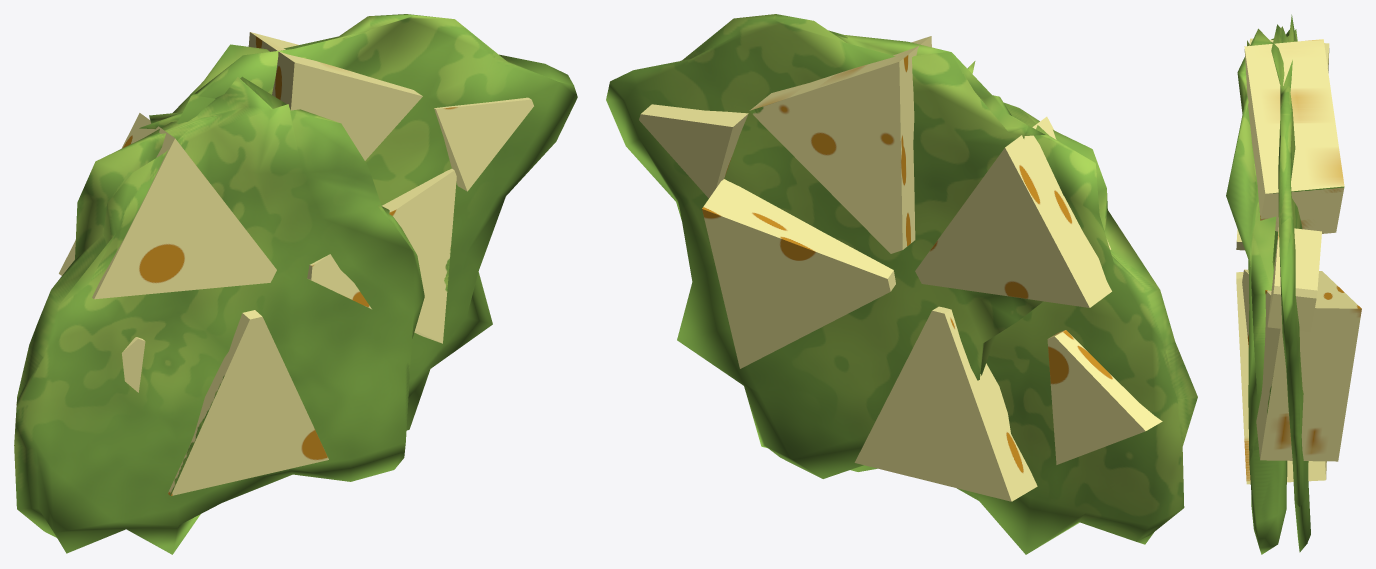
File: MixLC.fbx
The picture shows the model from 3 angles, left to right: view 1: azimuth 30°, elevation 25°; view 2: azimuth 150°, elevation 25°; view 3: azimuth 270°, elevation 25°; orthographic projection. The views are drawn at different scales.
Parts seen in each view (by area): view 1: Cutcheese.002; view 2: Cutcheese.002; view 3: Cutcheese.002.
Part boxes in pixels (<box>): Cutcheese.002: <box>14,14,577,554</box>; Cutcheese.002: <box>606,14,1197,554</box>; Cutcheese.002: <box>1226,14,1361,554</box>.
Bounding box in the file's own units: 0.8274 × 0.673 × 0.1646.
Materials: 1 (1 with a texture image).
